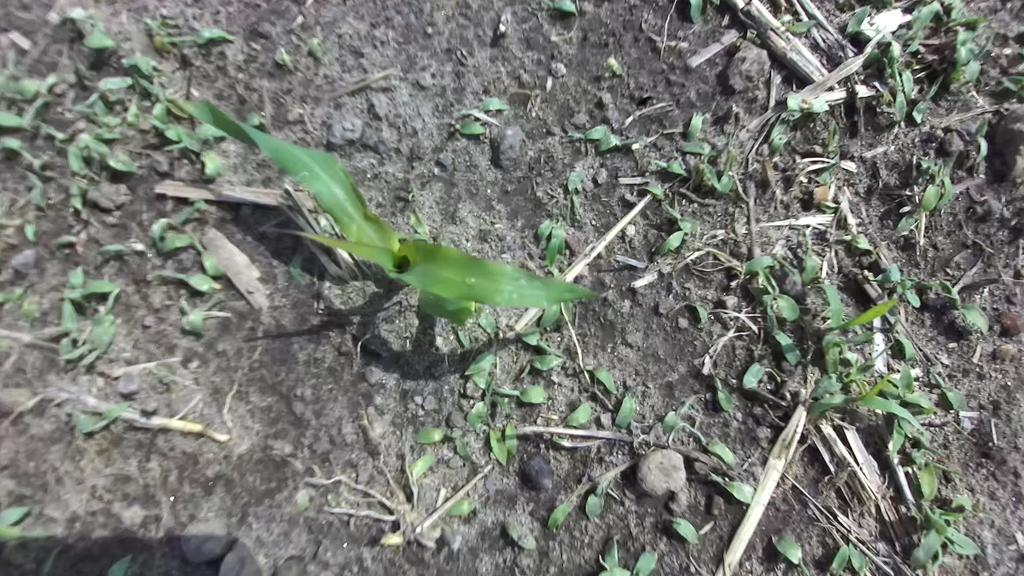BroWeed: (807, 360, 941, 441), (802, 279, 900, 345), (808, 307, 879, 378), (928, 275, 999, 339), (804, 348, 877, 408), (882, 359, 944, 422), (754, 296, 806, 369), (170, 118, 228, 182), (748, 266, 806, 328), (904, 506, 955, 576), (19, 67, 73, 132), (82, 135, 150, 183), (142, 210, 201, 265), (13, 263, 65, 324), (907, 69, 959, 130), (53, 320, 113, 372), (542, 473, 593, 534), (70, 65, 137, 111), (462, 375, 511, 434), (81, 390, 137, 440), (654, 384, 706, 436), (893, 414, 947, 464), (955, 25, 997, 87), (927, 365, 976, 418), (880, 260, 929, 313), (77, 319, 124, 373), (182, 282, 228, 337), (701, 464, 759, 507), (767, 522, 813, 576), (916, 156, 955, 216), (653, 201, 707, 244), (495, 508, 543, 556), (557, 395, 605, 443), (69, 15, 120, 60), (462, 336, 507, 386), (157, 119, 227, 151), (90, 285, 133, 336), (906, 444, 956, 487), (59, 138, 100, 190), (909, 459, 946, 516), (883, 313, 921, 368), (185, 234, 227, 283), (515, 319, 570, 356), (941, 36, 982, 85), (662, 505, 705, 551), (443, 421, 482, 471), (16, 161, 52, 215), (151, 268, 223, 295), (833, 224, 887, 260), (163, 23, 236, 49), (586, 357, 629, 401), (940, 526, 987, 566), (512, 345, 565, 380), (0, 204, 46, 244), (400, 203, 441, 247), (704, 375, 743, 421), (0, 272, 45, 311), (92, 234, 146, 266), (143, 18, 180, 63), (757, 158, 786, 215), (471, 298, 505, 346), (651, 224, 688, 268), (887, 202, 923, 247), (132, 64, 173, 103), (631, 531, 666, 576), (484, 414, 511, 472), (594, 125, 647, 154), (885, 62, 910, 123), (411, 416, 454, 451), (704, 434, 743, 472), (599, 50, 637, 89), (405, 442, 441, 483), (902, 17, 938, 58), (737, 352, 772, 394), (3, 76, 46, 110), (269, 44, 306, 83), (774, 250, 809, 291), (529, 210, 564, 251), (667, 130, 713, 161), (58, 173, 95, 211), (705, 448, 743, 485), (284, 244, 315, 288), (565, 168, 586, 232), (69, 93, 112, 124), (74, 272, 124, 298), (857, 39, 897, 71), (614, 384, 641, 431), (763, 125, 796, 163), (492, 383, 549, 405), (842, 537, 874, 576), (715, 147, 738, 201), (450, 309, 480, 350), (44, 225, 79, 260), (949, 492, 996, 518), (280, 44, 313, 81), (871, 79, 903, 117), (29, 116, 73, 143), (844, 3, 872, 45), (876, 30, 906, 69), (65, 405, 102, 436), (451, 105, 503, 127), (833, 340, 867, 373), (155, 119, 195, 147), (797, 246, 825, 286), (695, 98, 721, 141), (971, 116, 989, 177), (130, 108, 165, 139), (763, 114, 794, 149), (953, 16, 983, 52), (191, 196, 232, 222), (466, 428, 492, 469), (73, 50, 100, 89), (57, 297, 82, 339), (875, 371, 904, 407), (0, 133, 38, 160), (0, 500, 34, 530), (559, 123, 610, 143), (147, 96, 176, 131), (72, 118, 103, 150), (444, 494, 482, 520), (826, 542, 855, 576), (895, 60, 919, 101), (808, 161, 843, 189), (287, 33, 326, 58), (500, 415, 522, 459), (37, 539, 63, 576), (288, 482, 319, 513), (17, 501, 47, 533), (427, 434, 457, 466), (36, 283, 65, 316), (0, 109, 39, 133), (0, 526, 52, 544), (106, 546, 137, 576), (0, 67, 29, 99), (756, 265, 777, 309), (543, 219, 562, 267), (59, 284, 94, 310), (162, 96, 192, 126), (286, 11, 316, 41), (470, 366, 500, 396), (488, 392, 522, 418), (585, 477, 605, 521), (901, 274, 947, 293), (171, 197, 202, 225), (652, 155, 691, 177), (450, 114, 487, 137), (132, 48, 157, 82), (240, 108, 274, 133), (93, 121, 123, 149), (701, 150, 721, 192), (908, 501, 930, 539), (783, 15, 821, 37), (310, 207, 336, 239), (940, 457, 967, 487), (80, 143, 105, 175), (684, 108, 706, 144), (125, 89, 145, 128), (31, 149, 58, 177), (496, 4, 518, 38), (598, 534, 618, 570), (472, 94, 509, 113), (76, 203, 100, 232), (400, 166, 419, 202), (121, 54, 163, 70), (537, 303, 565, 327), (899, 53, 928, 76), (158, 13, 184, 38), (62, 264, 87, 290), (823, 119, 841, 155), (177, 296, 194, 334), (890, 417, 905, 459), (933, 506, 969, 523), (952, 153, 973, 182), (60, 213, 85, 237), (161, 81, 187, 104), (555, 223, 569, 265), (3, 45, 21, 77), (57, 334, 75, 366), (126, 549, 147, 576), (78, 106, 105, 127), (904, 403, 937, 420), (111, 120, 139, 140), (65, 4, 94, 23), (802, 239, 821, 268), (92, 112, 126, 128), (65, 116, 90, 137), (634, 185, 666, 201), (899, 462, 922, 484), (73, 227, 91, 254), (303, 457, 325, 479), (800, 97, 830, 113), (433, 233, 457, 253), (379, 529, 405, 547), (128, 76, 149, 98), (876, 258, 894, 283), (662, 210, 681, 233), (915, 445, 939, 463), (931, 546, 945, 576), (784, 90, 804, 111), (854, 375, 873, 397), (518, 367, 536, 390), (827, 144, 847, 164), (89, 14, 110, 33), (598, 478, 612, 506), (33, 127, 50, 150), (103, 91, 131, 104), (629, 419, 642, 447), (698, 518, 717, 537), (560, 300, 575, 324), (674, 416, 694, 434), (136, 90, 153, 111), (881, 369, 902, 386), (473, 420, 492, 438), (326, 490, 346, 507), (152, 70, 174, 85), (598, 566, 631, 576), (782, 267, 795, 292), (544, 261, 563, 278), (818, 200, 839, 215), (906, 36, 941, 45), (750, 552, 763, 576), (881, 56, 892, 84), (317, 231, 342, 243), (860, 267, 878, 283), (895, 37, 910, 55), (52, 137, 72, 150), (881, 100, 897, 116), (977, 155, 987, 180), (897, 202, 916, 215), (778, 111, 802, 121), (892, 26, 909, 40), (694, 162, 703, 188), (701, 173, 711, 196), (187, 208, 204, 220), (776, 12, 793, 24), (545, 320, 559, 334), (336, 482, 349, 496), (937, 7, 948, 23), (850, 264, 864, 276), (909, 82, 921, 96), (925, 558, 934, 576), (881, 0, 901, 8), (656, 229, 670, 240), (941, 0, 962, 7), (1013, 89, 1024, 101), (935, 406, 948, 416), (501, 109, 510, 123), (487, 450, 498, 461), (730, 180, 740, 192), (546, 391, 555, 404), (534, 375, 543, 388), (615, 51, 623, 63), (1002, 46, 1012, 55), (150, 93, 158, 104), (729, 192, 736, 200), (712, 0, 720, 6)
Maize: (137, 71, 598, 380)
